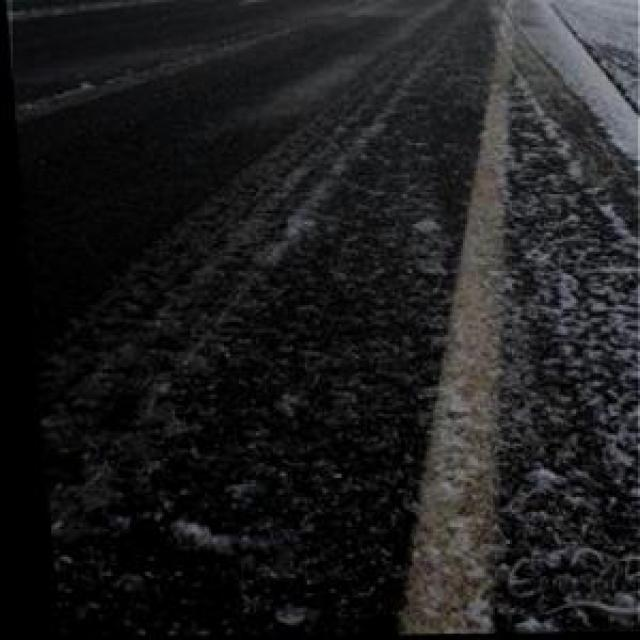ice-road: (14, 1, 640, 636)
